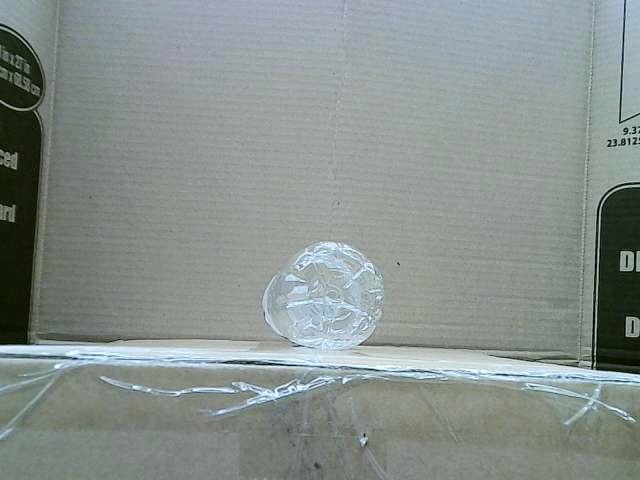WaterBottle: (262, 240, 384, 352)
